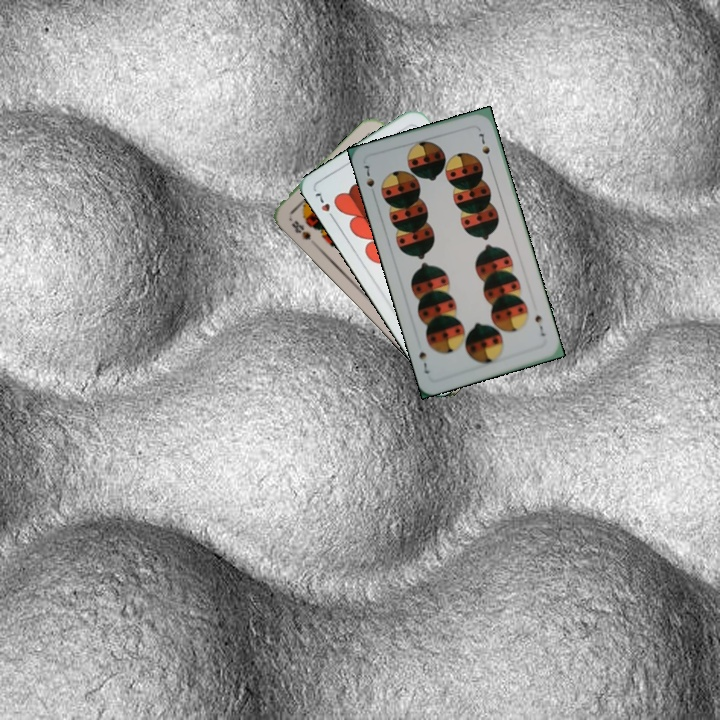H7: (311, 189, 338, 223)
S7: (358, 161, 378, 199), (531, 311, 547, 339)
S8: (287, 216, 313, 243)
